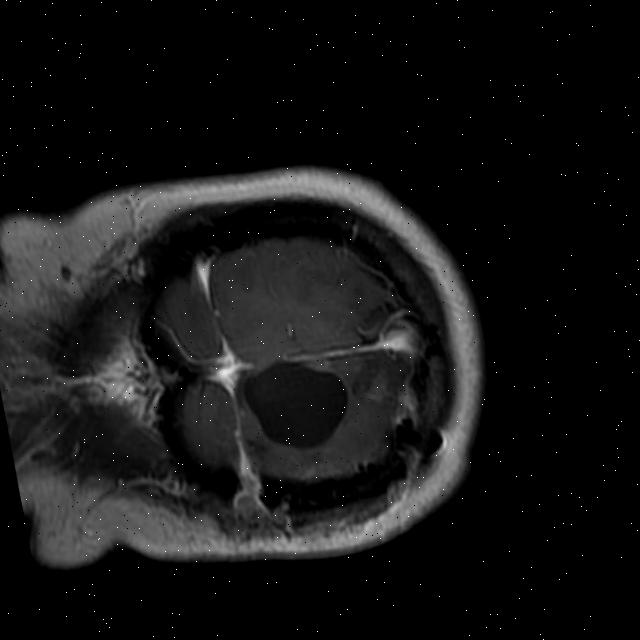Glioma: (233, 346, 357, 463)
